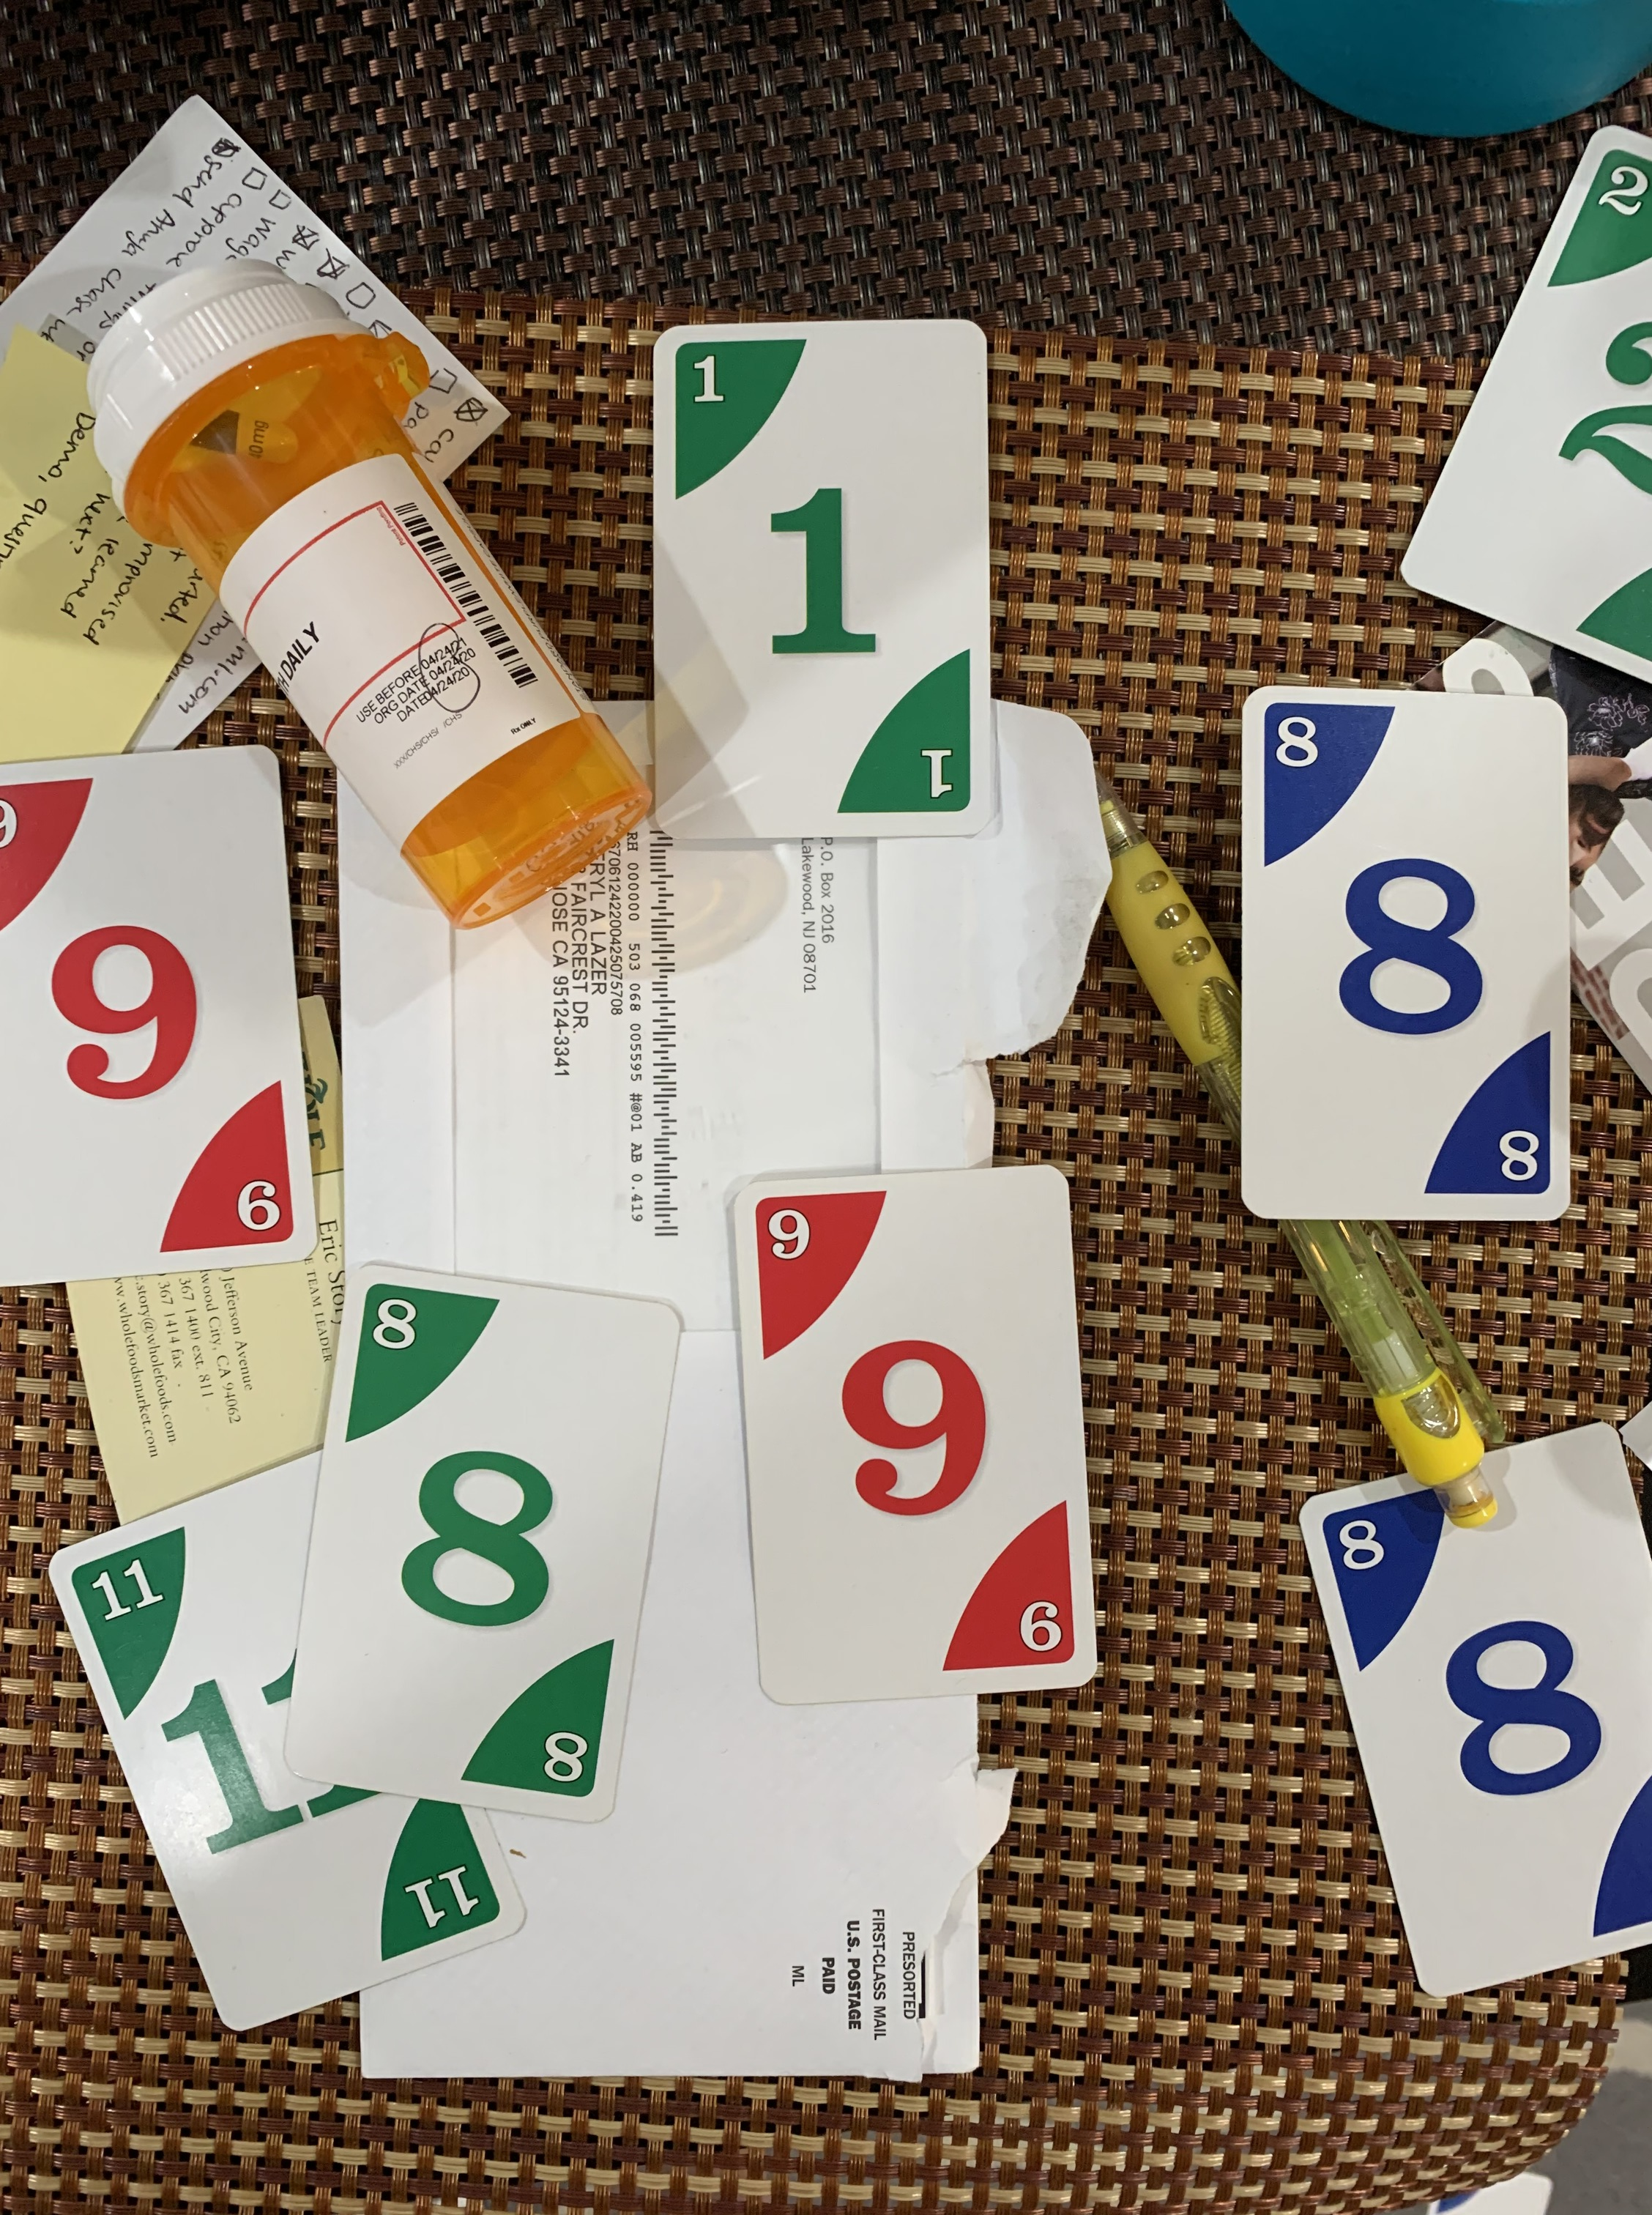eight: (1270, 1408, 1652, 2022), (281, 1260, 698, 1819), (1223, 665, 1586, 1238)
eleven: (29, 1429, 531, 2036)
nine: (718, 1147, 1119, 1720), (0, 733, 340, 1305)
one: (623, 292, 1019, 861)
